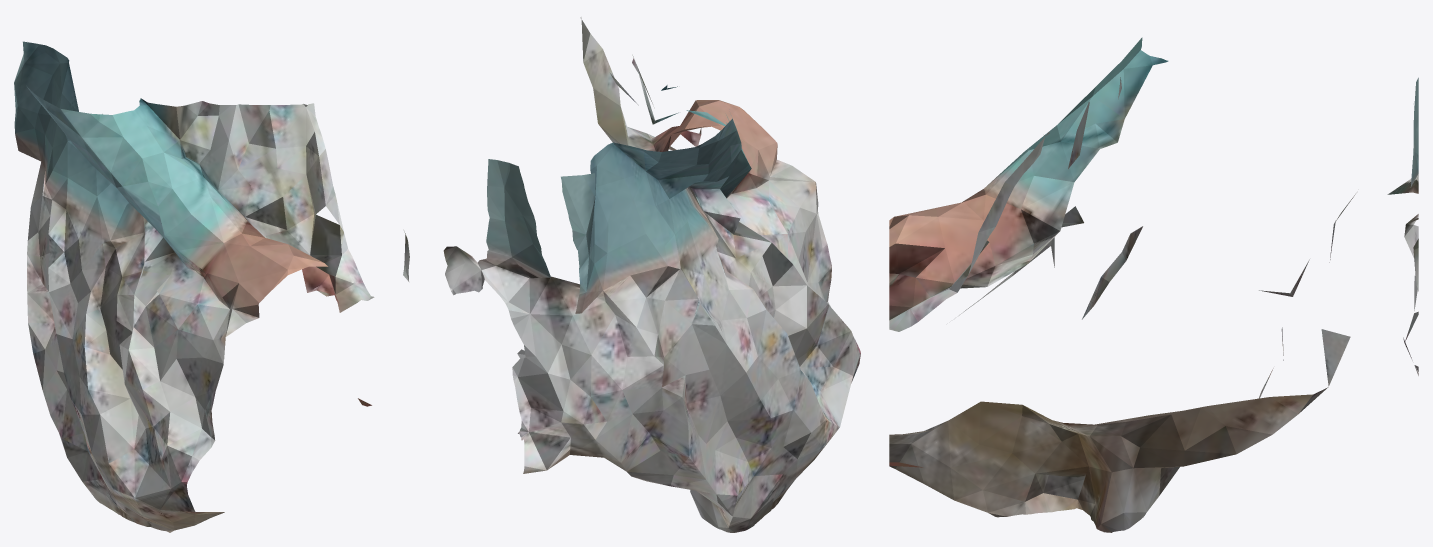
3 renders of one model, left to right at view 1: azimuth 30°, elevation 25°; view 2: azimuth 150°, elevation 25°; view 3: azimuth 270°, elevation 25°, orthographic. The views are drawn at different scales.
Bounding box in the file's own units: 205 × 343 × 343.
1 material, 1 textured.
